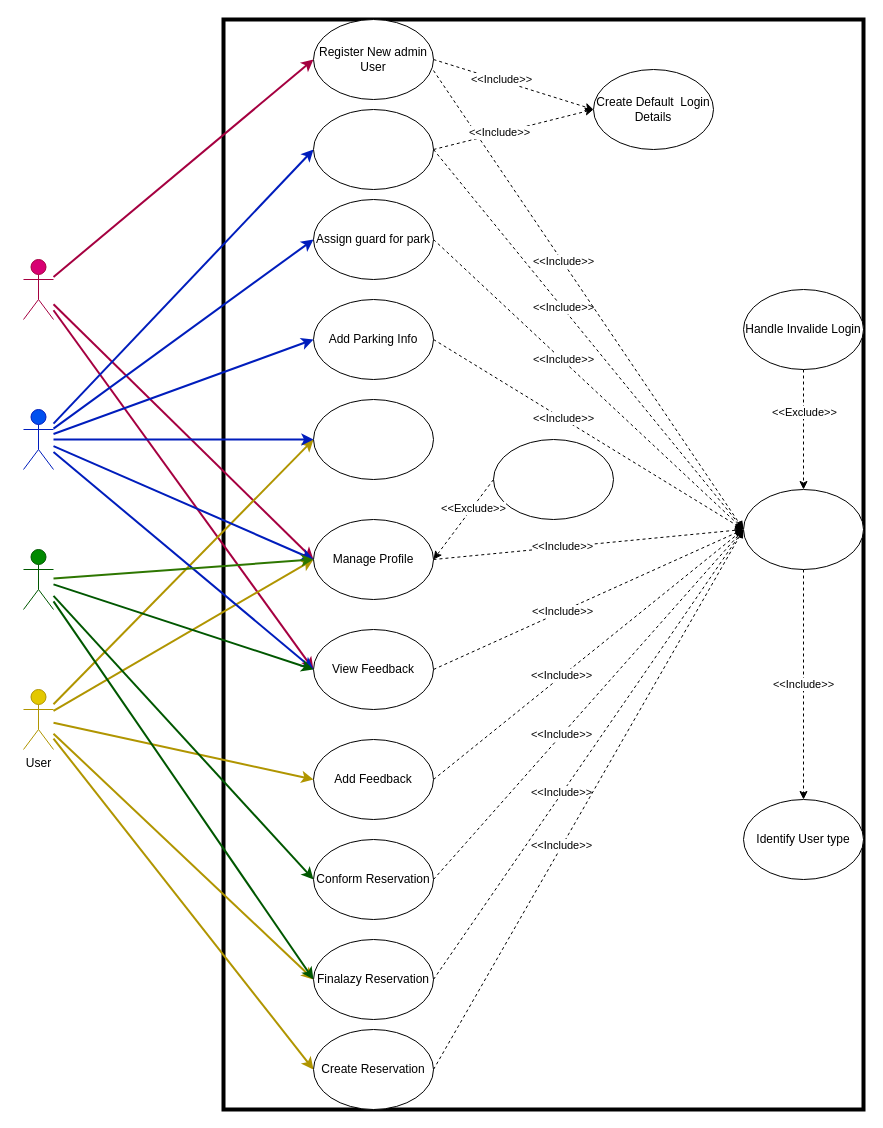
The diagram is 883 pixels wide and 1128 high, and some of its shapes have lost their labels. The shapes that lost their labels are listed below. From the top down, each one's box as (x1, y1, x2, y2) in pixels, then its label:
(312, 108, 434, 190): Register New Guard
(22, 258, 54, 320): Admin
(22, 408, 54, 470): Park Owner
(312, 398, 434, 480): Register
(492, 438, 614, 520): Update Login Details
(742, 488, 864, 570): Login
(22, 548, 54, 610): Security Guard
